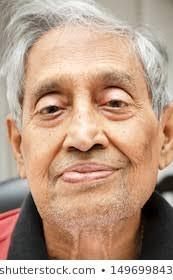normalEye: (30, 73, 137, 128)
strokeMouthWeak: (49, 158, 130, 184)
